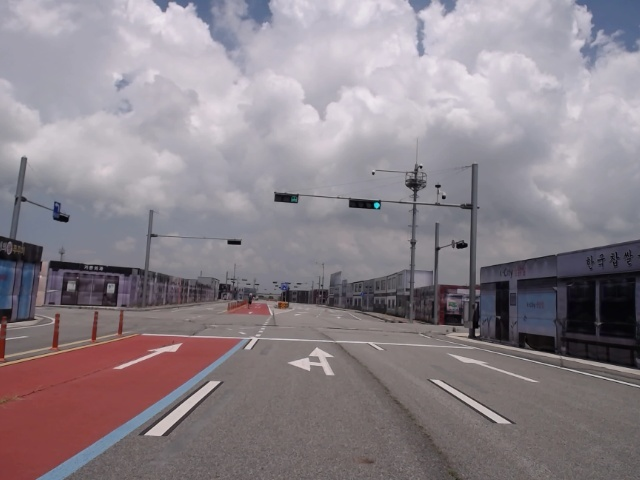straight_green_4: (347, 199, 381, 208)
